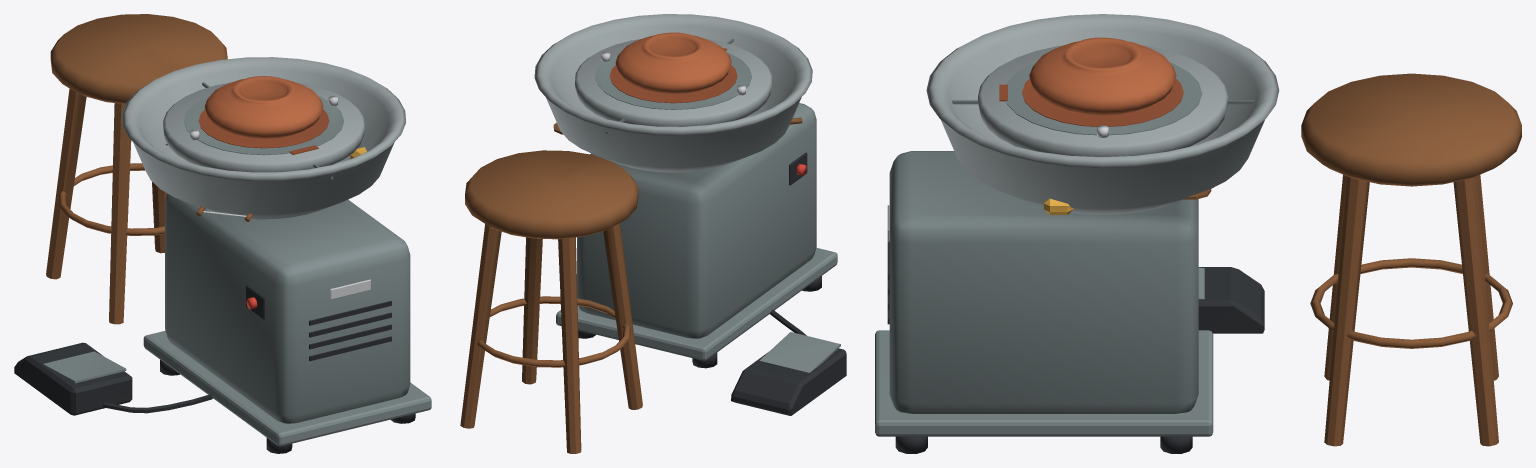
Rendered from potteryWheel.glb.
The picture shows the model from 3 angles, left to right: view 1: azimuth 30°, elevation 25°; view 2: azimuth 150°, elevation 25°; view 3: azimuth 270°, elevation 25°; orthographic projection. The views are drawn at different scales.
Parts seen in each view (by area): view 1: body, wheel_head, pot; view 2: body, wheel_head, pot; view 3: body, wheel_head, pot.
Boxes of the visible parts, box(x1,y1,x2,y2) form: body: box(14, 14, 431, 453); wheel_head: box(163, 82, 364, 172); pot: box(204, 76, 323, 139); body: box(460, 14, 846, 453); wheel_head: box(575, 38, 772, 126); pot: box(615, 32, 731, 94); body: box(875, 14, 1521, 453); wheel_head: box(978, 45, 1227, 156); pot: box(1029, 37, 1176, 115).
Bounding box in the file's own units: 0.6 × 0.5366 × 0.88.
